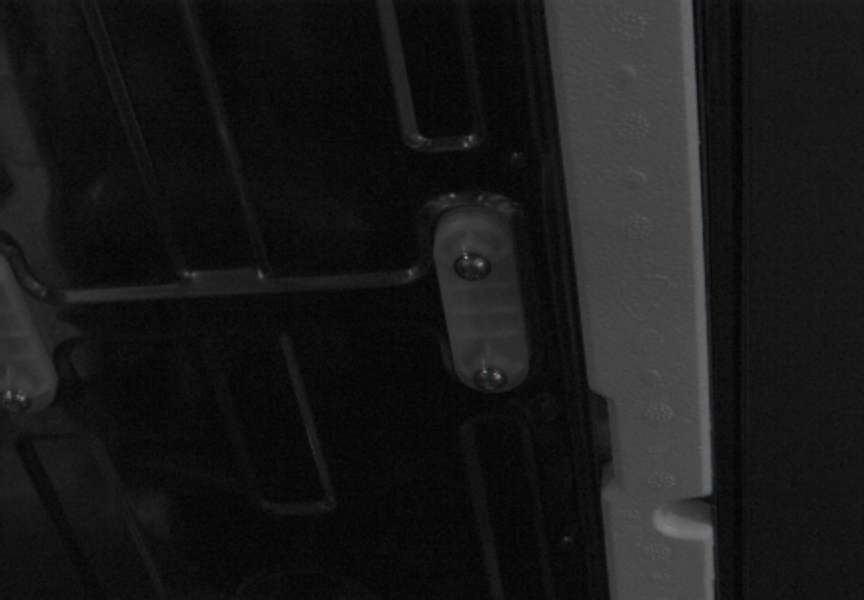screw: (454, 252, 491, 281), (474, 366, 507, 392), (0, 390, 31, 414)
